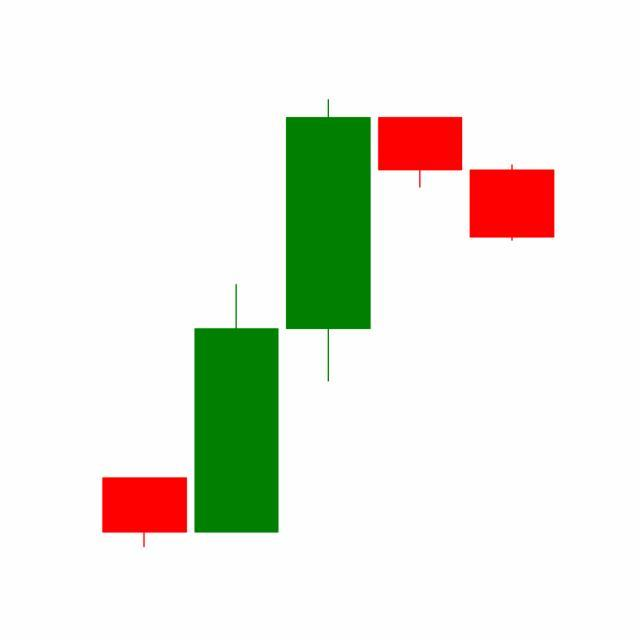Marubozu: (466, 164, 559, 242)
